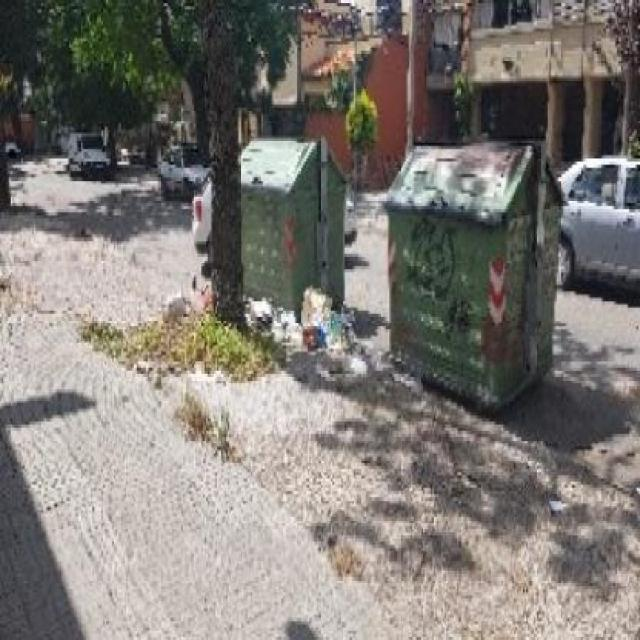garbage: (243, 282, 350, 358)
